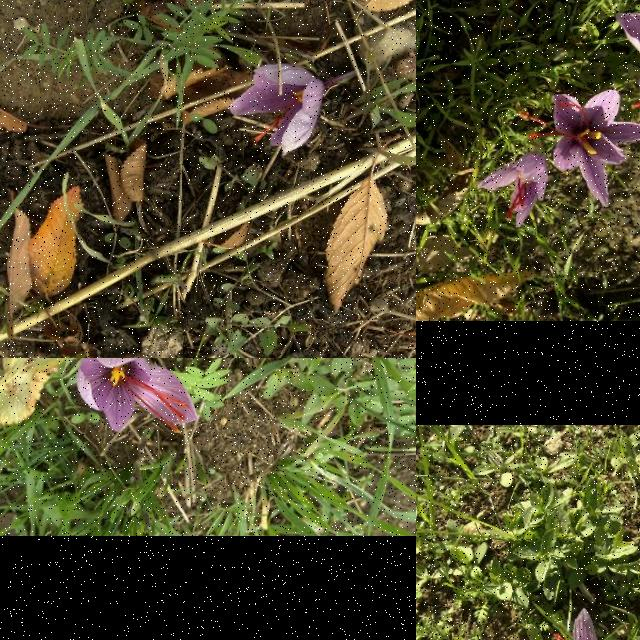flower: (520, 89, 640, 206), (76, 358, 199, 436), (228, 64, 326, 156), (477, 156, 549, 228), (526, 608, 640, 640)
